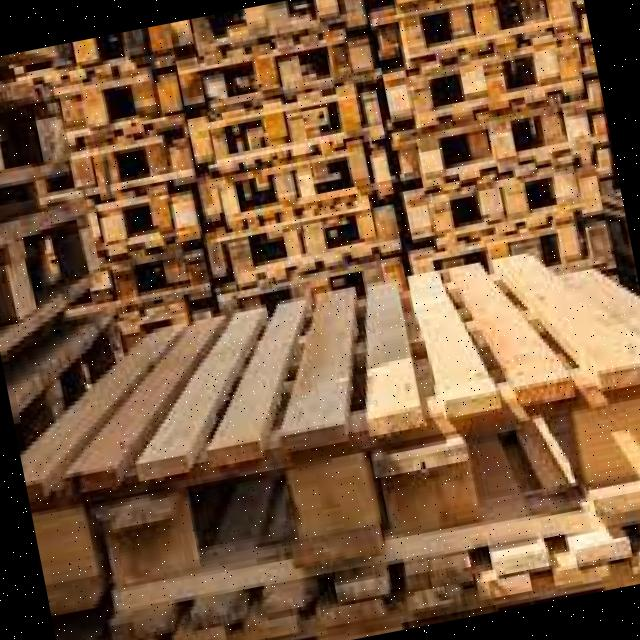Wooden-Pallets: (0, 223, 640, 640)
